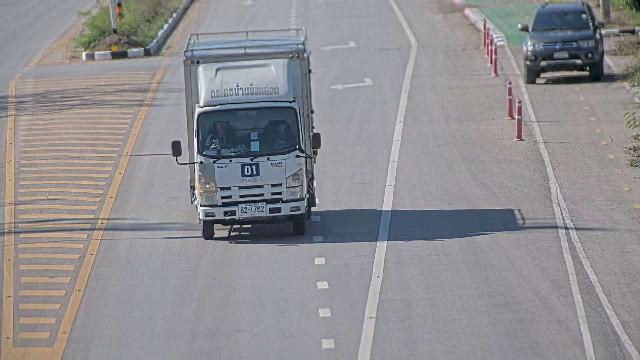pickup-truck: (517, 1, 605, 84)
truck: (168, 27, 324, 243)
